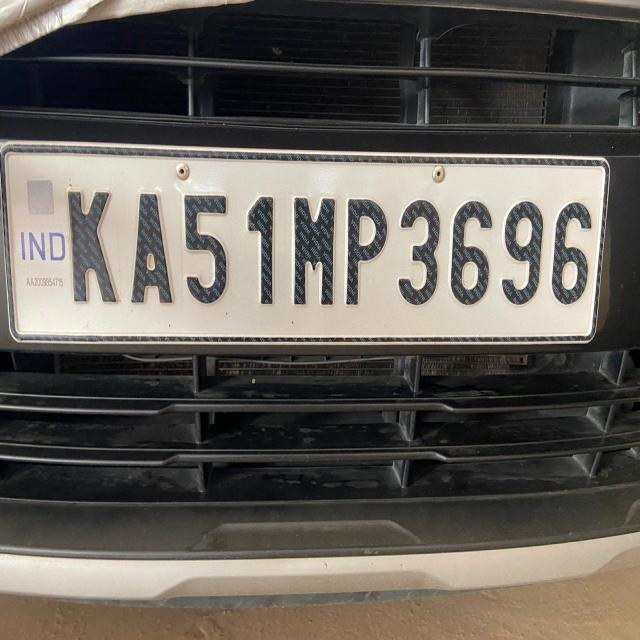1: (241, 188, 283, 316)
3: (394, 187, 444, 312)
5: (177, 185, 238, 316)
6: (550, 180, 599, 316), (448, 192, 494, 314)
9: (502, 187, 547, 310)
A: (128, 186, 182, 312), (129, 190, 177, 310)
K: (61, 184, 125, 313)
M: (286, 188, 340, 312)
P: (343, 188, 392, 315)
